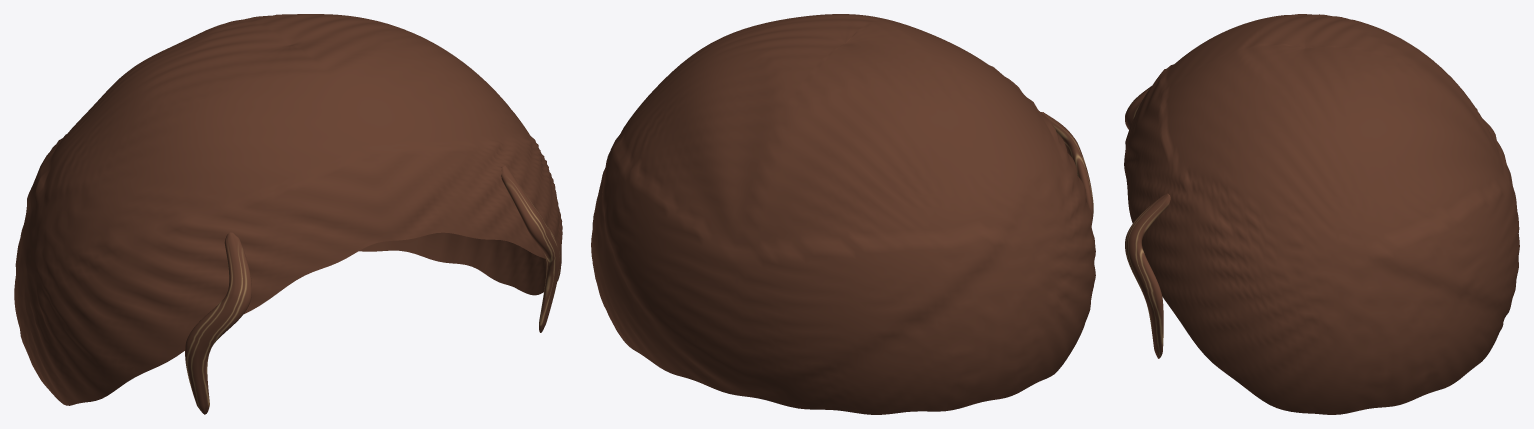
The model's file is Highlights-78e22c5b71cb252-hair.glb.
3 renders of one model, left to right at view 1: azimuth 30°, elevation 25°; view 2: azimuth 150°, elevation 25°; view 3: azimuth 270°, elevation 25°, orthographic. The views are drawn at different scales.
Parts seen in each view (by area): view 1: 226 hair / Hair / chestnut226.002; view 2: 226 hair / Hair / chestnut226.002; view 3: 226 hair / Hair / chestnut226.002.
Boxes of the visible parts, x1,y1,x2,y2 form: 226 hair / Hair / chestnut226.002: [14, 14, 562, 414]; 226 hair / Hair / chestnut226.002: [591, 14, 1095, 414]; 226 hair / Hair / chestnut226.002: [1124, 14, 1519, 414].
Size of the model in its own units: 0.9981 by 0.5988 by 0.7846.
1 material, 1 textured.
